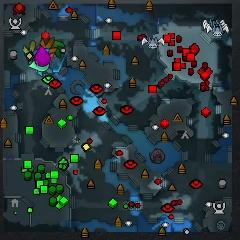p1: (34, 47, 50, 54)
p2: (29, 60, 51, 71)
p3: (36, 45, 50, 66)
x2: (24, 41, 36, 53)
x4: (52, 40, 64, 57)
x5: (40, 37, 57, 53)
